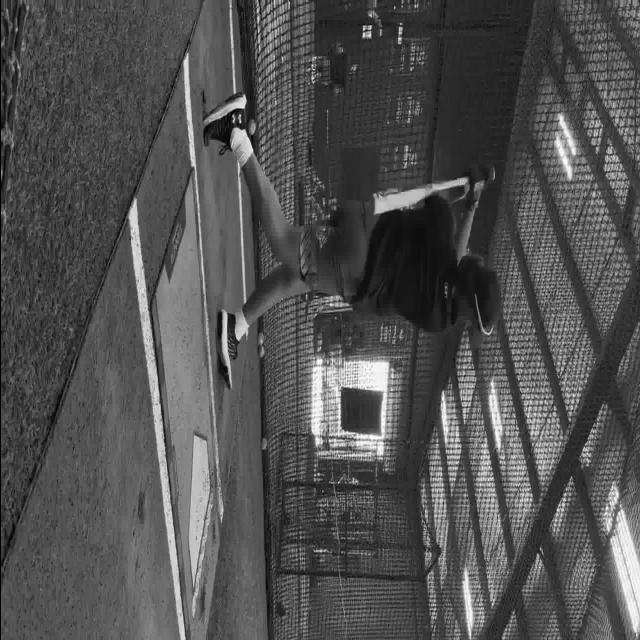base: (189, 436, 209, 597)
baseball: (247, 118, 256, 135), (258, 344, 264, 358), (257, 331, 263, 345), (260, 436, 266, 449)
baseball_glove: (463, 163, 495, 210)
bat: (370, 164, 494, 216)
shoe: (201, 92, 251, 154), (217, 308, 240, 390)
